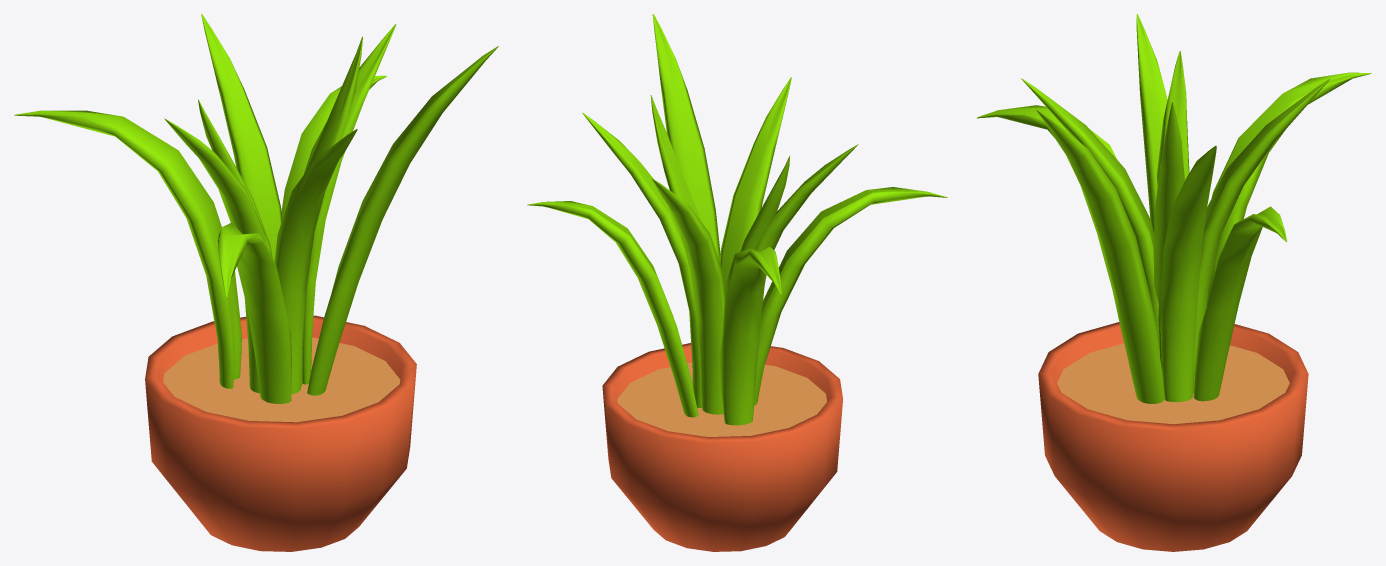
Rendered from pianta.fbx.
The picture shows the model from 3 angles, left to right: view 1: azimuth 30°, elevation 25°; view 2: azimuth 150°, elevation 25°; view 3: azimuth 270°, elevation 25°; orthographic projection. The views are drawn at different scales.
Parts seen in each view (by area): view 1: Plane, Circle, NurbsPath.009, NurbsPath.008, NurbsPath.005, NurbsPath.001, NurbsPath, NurbsPath.006, NurbsPath.007, NurbsPath.002, NurbsPath.004, NurbsPath.003; view 2: Plane, Circle, NurbsPath.009, NurbsPath, NurbsPath.008, NurbsPath.005, NurbsPath.004, NurbsPath.001, NurbsPath.006, NurbsPath.007, NurbsPath.002, NurbsPath.003; view 3: Plane, Circle, NurbsPath.008, NurbsPath.006, NurbsPath.004, NurbsPath, NurbsPath.001, NurbsPath.009, NurbsPath.007, NurbsPath.002, NurbsPath.003, NurbsPath.005.
Part boxes in pixels (x1,y1,x2,y2): Plane: (145,315,416,551); Circle: (163,337,400,422); NurbsPath.009: (14,110,241,388); NurbsPath.008: (307,46,498,395); NurbsPath.005: (218,222,291,403); NurbsPath.001: (274,129,357,394); NurbsPath: (201,14,282,261); NurbsPath.006: (302,24,396,384); NurbsPath.007: (164,118,266,393); NurbsPath.002: (301,36,362,386); NurbsPath.004: (281,75,386,219); NurbsPath.003: (198,99,272,256); Plane: (602,343,842,551); Circle: (617,362,826,436); NurbsPath.009: (719,247,781,425); NurbsPath: (652,178,725,414); NurbsPath.008: (652,14,720,261); NurbsPath.005: (754,187,947,405); NurbsPath.004: (527,201,698,417); NurbsPath.001: (719,77,791,292); NurbsPath.006: (582,112,702,407); NurbsPath.007: (755,144,858,251); NurbsPath.002: (650,95,700,220); NurbsPath.003: (740,156,789,251); Plane: (1038,322,1308,551); Circle: (1057,343,1289,424); NurbsPath.008: (1036,109,1164,403); NurbsPath.006: (1160,145,1216,402); NurbsPath.004: (1193,206,1286,401); NurbsPath: (1193,79,1330,393); NurbsPath.001: (1021,78,1159,354); NurbsPath.009: (1207,72,1371,305); NurbsPath.007: (1136,14,1167,233); NurbsPath.002: (1153,102,1184,370); NurbsPath.003: (1157,51,1189,184); NurbsPath.005: (977,105,1116,158).
Bounding box in the file's own units: 51.91 × 75.05 × 54.55.
